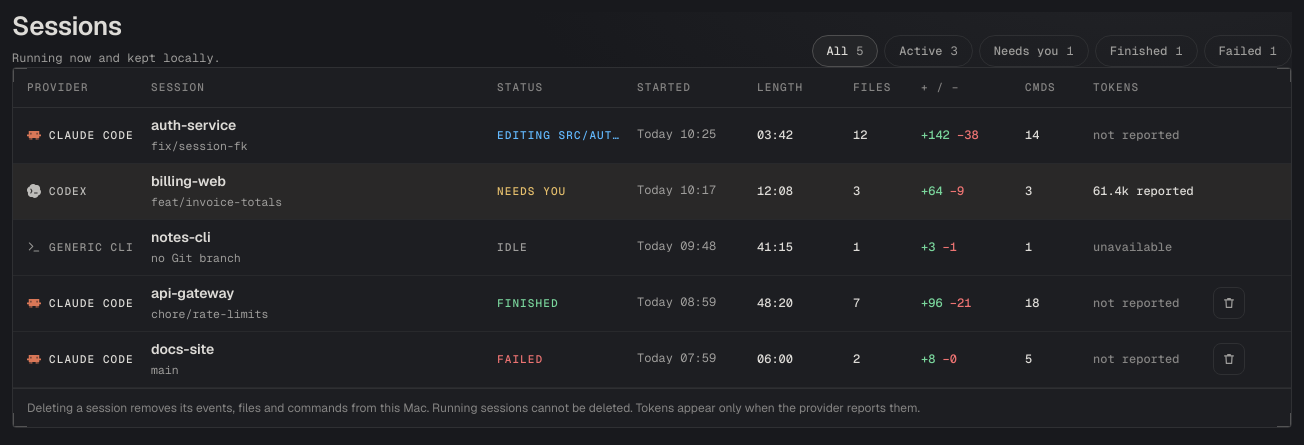
Sessions page › shows an empty state when the filter has no matches
Click the button "Failed 1": {"x": 1248, "y": 51} [1204,35,1292,67]
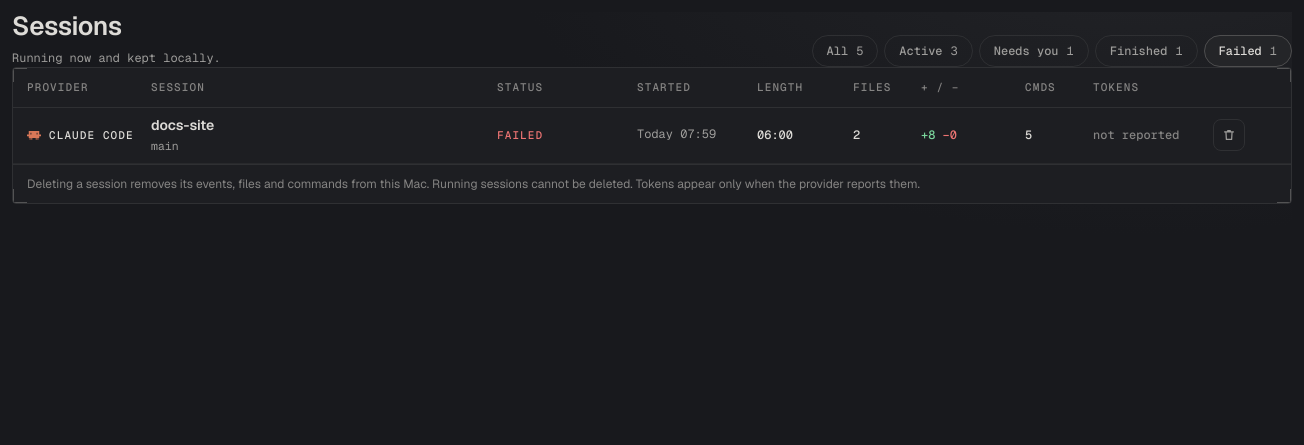
Click the button named "Delete session docs-site": {"x": 1229, "y": 135} [1213,119,1245,151]
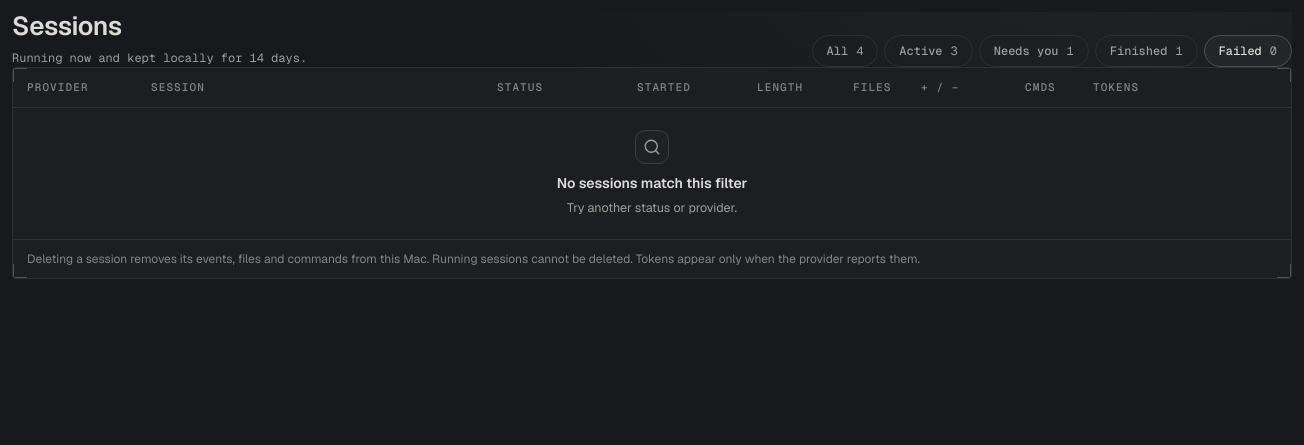
Expected: the text "No sessions match this filter" is shown, [557,174,747,192]
